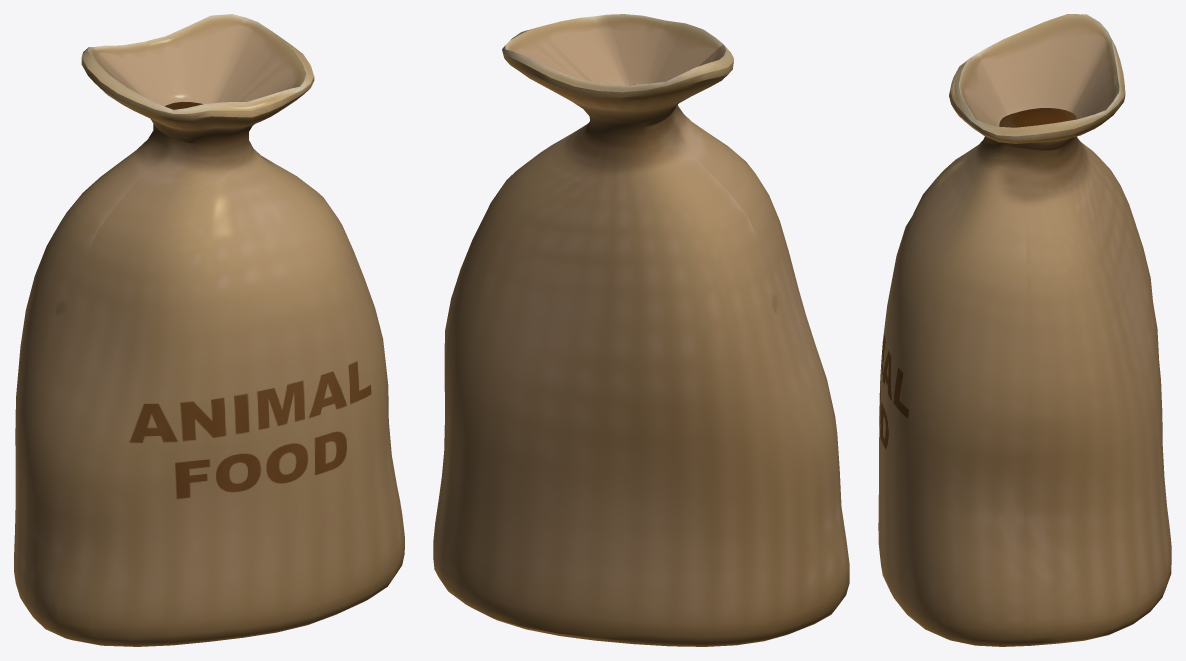
The model's file is Animal_Food_Bag.fbx.
3 views of the same model, side by side, from view 1: azimuth 30°, elevation 25°; view 2: azimuth 150°, elevation 25°; view 3: azimuth 270°, elevation 25° (orthographic). The views are drawn at different scales.
Parts seen in each view (by area): view 1: Animal_food_LOW; view 2: Animal_food_LOW; view 3: Animal_food_LOW.
Part boxes in pixels (<box>): Animal_food_LOW: <box>14,14,404,646</box>; Animal_food_LOW: <box>433,14,849,646</box>; Animal_food_LOW: <box>878,14,1171,646</box>.
Size of the model in its own units: 91.78 by 133 by 67.88.
1 material, 1 textured.
